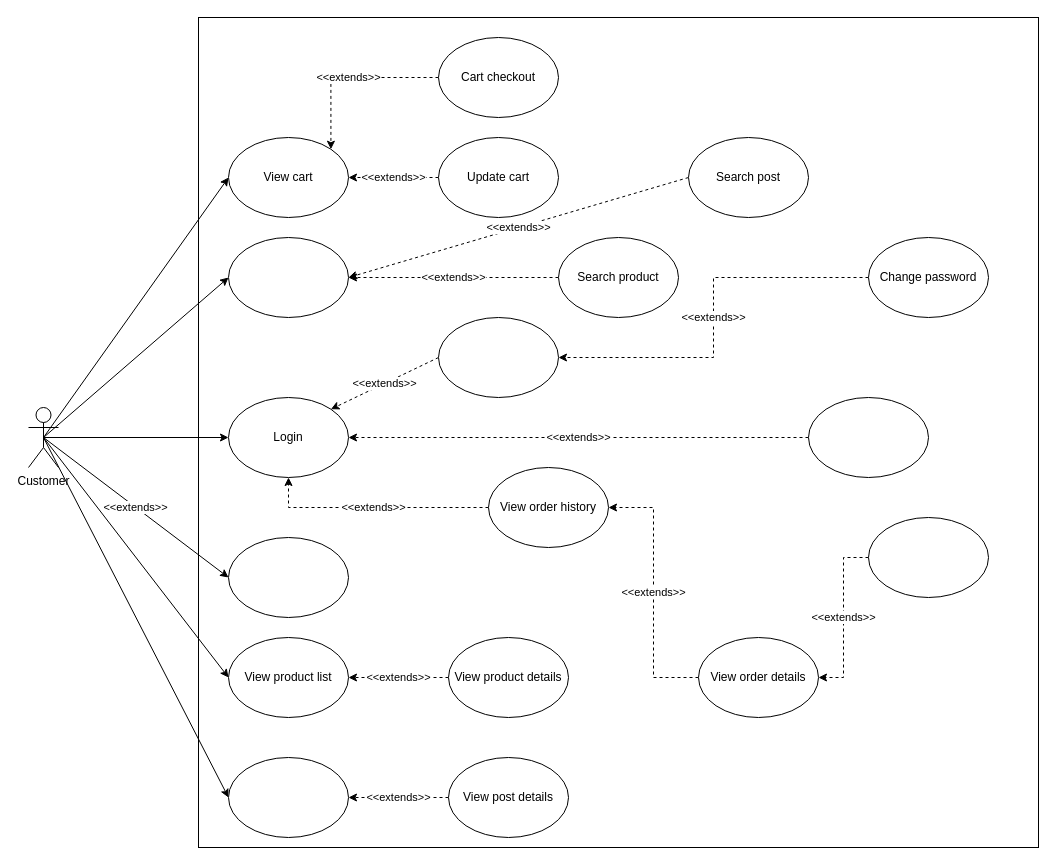
The diagram is 1056 pixels wide and 865 high, and some of its shapes have lost their labels. Here are the shapes that lost their labels. From the top down, the centre of each, then its label:
At point 288,277: "View homepage".
At point 498,357: "Edit profile".
At point 868,437: "Reset password".
At point 288,577: "Log out".
At point 928,557: "Add feedback".
At point 288,797: "View post list".
